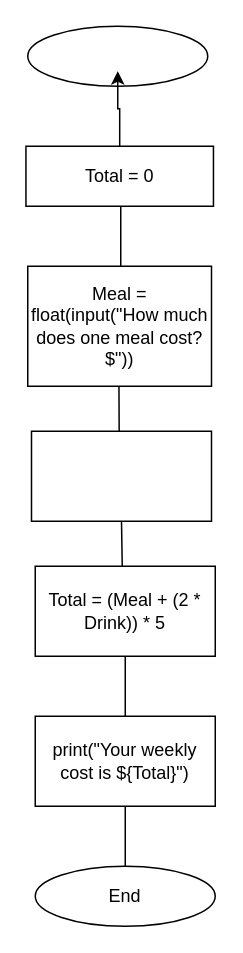
Some shapes in this 243 by 953 pixel diagram are drawn without their labels. Here are the shapes that lost their labels. From the top down, the centre of each, then its label:
point 117,55: Start
point 121,475: Drink = float(input("How much does one drink cost? $"))
